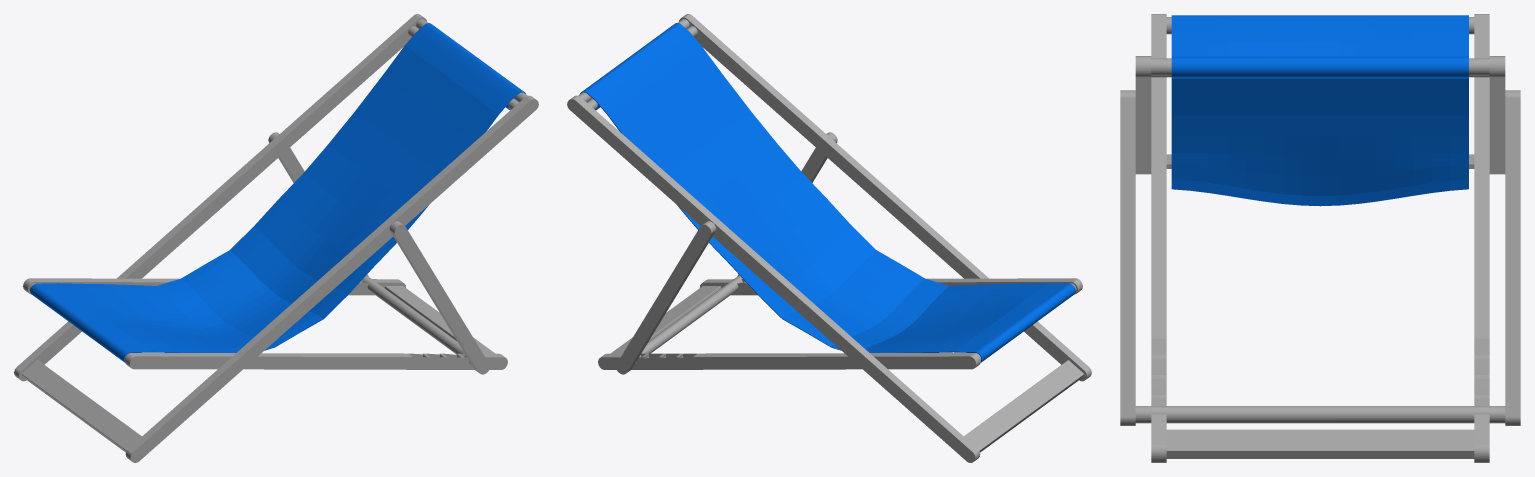
The model's file is chair-deck.fbx.
The picture shows the model from 3 angles, left to right: view 1: azimuth 30°, elevation 25°; view 2: azimuth 150°, elevation 25°; view 3: azimuth 270°, elevation 25°; orthographic projection. The views are drawn at different scales.
Visible parts, largest first — view 1: DeckChair; view 2: DeckChair; view 3: DeckChair.
Boxes of the visible parts, left/top/right/bottom form: DeckChair: left=14, top=14, right=538, bottom=462; DeckChair: left=567, top=14, right=1091, bottom=462; DeckChair: left=1120, top=14, right=1520, bottom=462.
Bounding box in the file's own units: 181 × 113 × 96.75.
